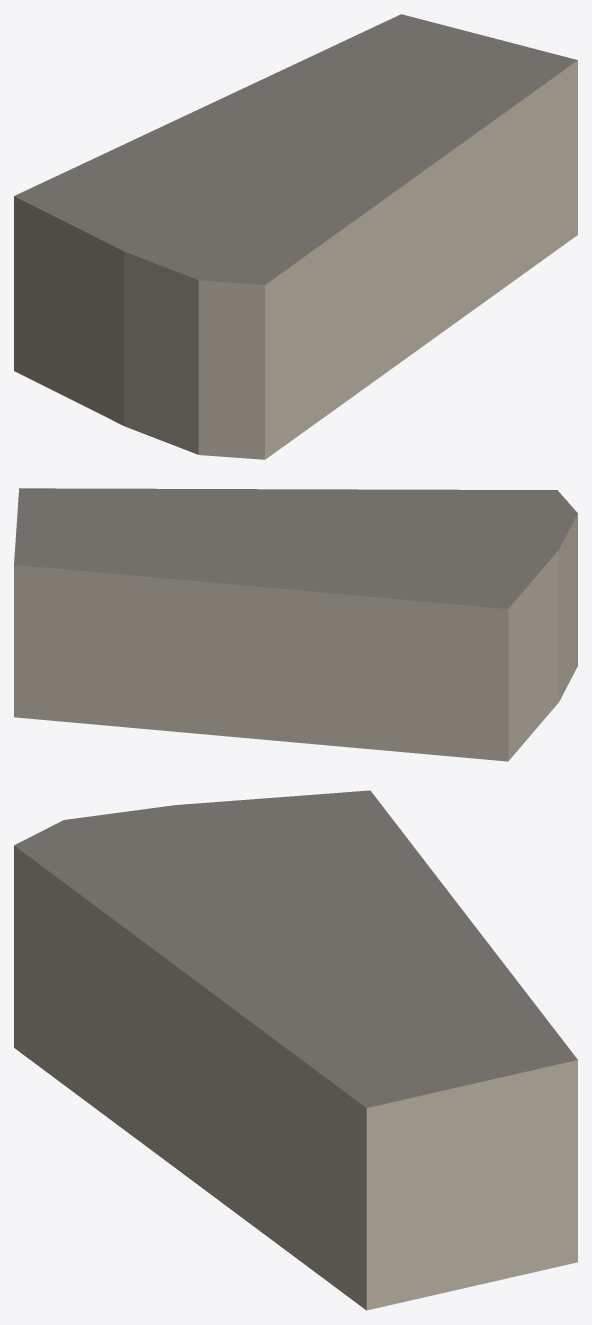
3 renders of one model, top to bottom at view 1: azimuth 30°, elevation 25°; view 2: azimuth 150°, elevation 25°; view 3: azimuth 270°, elevation 25°, orthographic. The views are drawn at different scales.
Visible parts, largest first — view 1: HP-w475045200; view 2: HP-w475045200; view 3: HP-w475045200.
Boxes of the visible parts, x1,y1,x2,y2 form: HP-w475045200: (14,14,577,459); HP-w475045200: (14,488,577,761); HP-w475045200: (14,790,577,1310).
Size of the model in its own units: 60.6 by 18 by 45.46.
